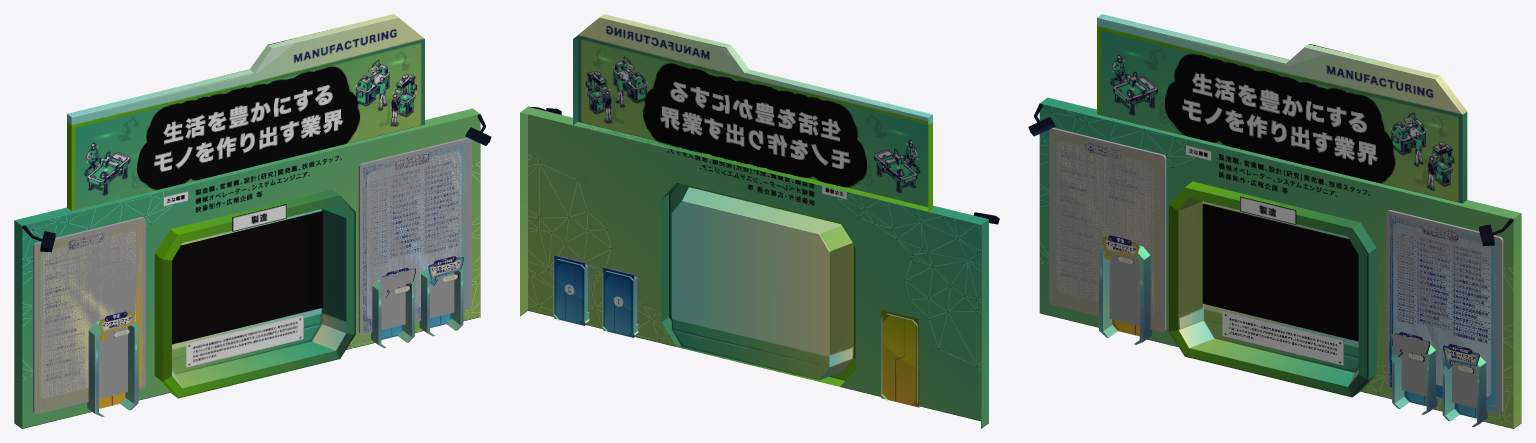
Rendered from Booth01_Seikatsu.fbx.
The picture shows the model from 3 angles, left to right: view 1: azimuth 30°, elevation 25°; view 2: azimuth 150°, elevation 25°; view 3: azimuth 330°, elevation 25°; orthographic projection. The views are drawn at different scales.
Parts seen in each view (by area): view 1: main2, VideoPlane; view 2: main2; view 3: main2, VideoPlane.
Boxes of the visible parts, box(x1,y1,x2,y2) form: main2: box(14, 14, 491, 428); VideoPlane: box(172, 217, 318, 339); main2: box(520, 14, 999, 428); main2: box(1028, 14, 1521, 428); VideoPlane: box(1207, 210, 1358, 336).
Bounding box in the file's own units: 1339 × 884 × 132.
3 materials, 2 textured.
